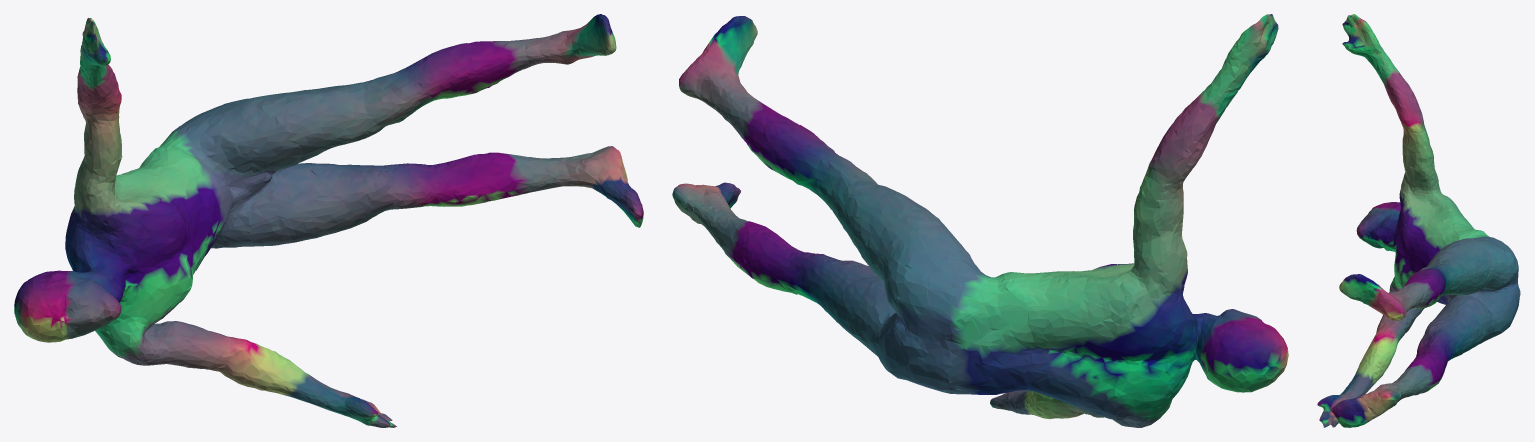
The model's file is man-16.off.obj.
The picture shows the model from 3 angles, left to right: view 1: azimuth 30°, elevation 25°; view 2: azimuth 150°, elevation 25°; view 3: azimuth 270°, elevation 25°; orthographic projection. The views are drawn at different scales.
Bounding box in the file's own units: 1.47 × 1.09 × 0.6302.
